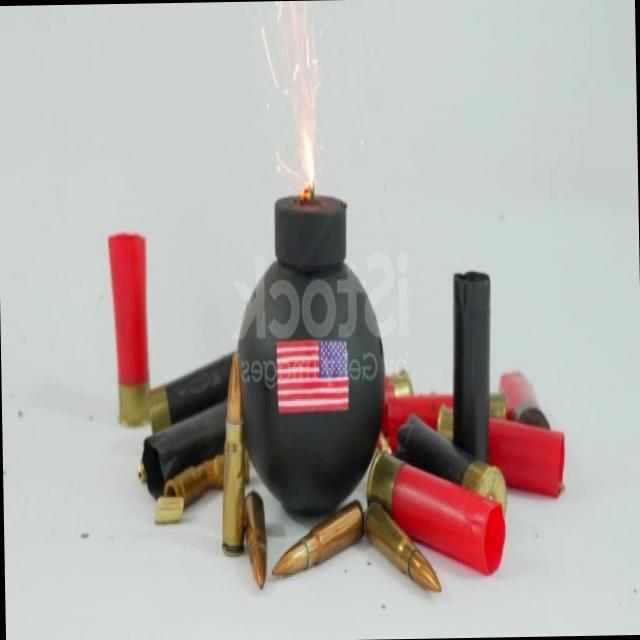grenade: (225, 196, 393, 519)
